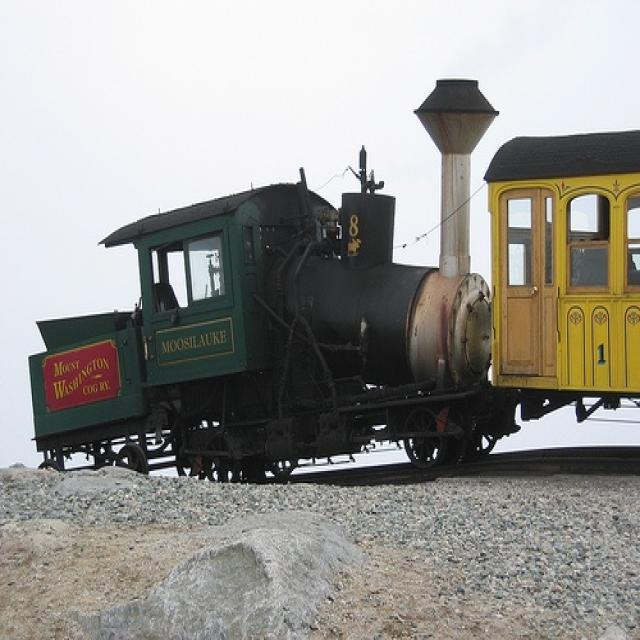train: (26, 77, 632, 476)
